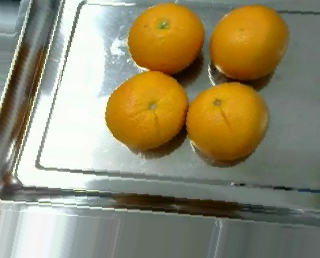Orange: (105, 71, 189, 151), (186, 81, 270, 160), (208, 3, 289, 80), (128, 2, 204, 73)
